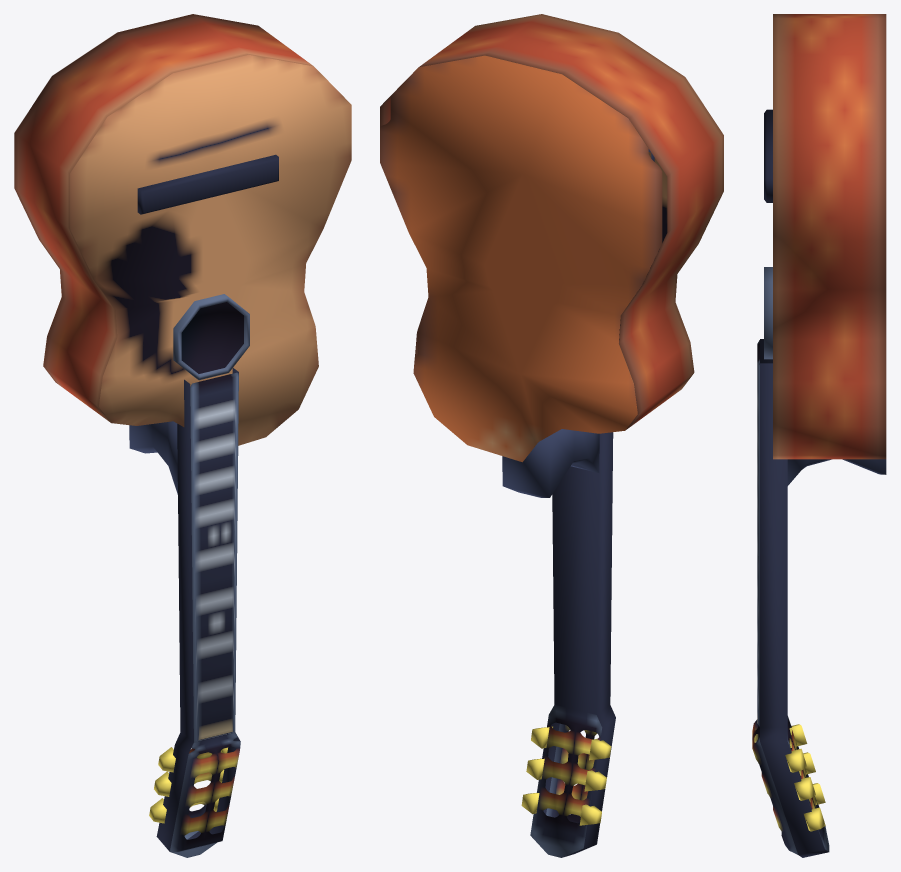
The model's file is violao.fbx.
3 views of the same model, side by side, from view 1: azimuth 30°, elevation 25°; view 2: azimuth 150°, elevation 25°; view 3: azimuth 270°, elevation 25° (orthographic). The views are drawn at different scales.
Parts seen in each view (by area): view 1: Violao; view 2: Violao; view 3: Violao.
Boxes of the visible parts, <box> form: Violao: <box>14,14,351,857</box>; Violao: <box>380,14,723,857</box>; Violao: <box>752,14,886,857</box>.
Size of the model in its own units: 43.49 by 118 by 17.58.
